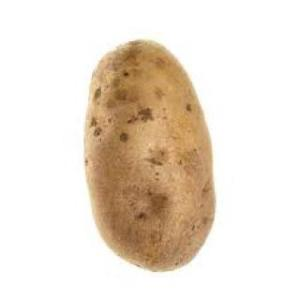potato: (85, 39, 217, 272)
